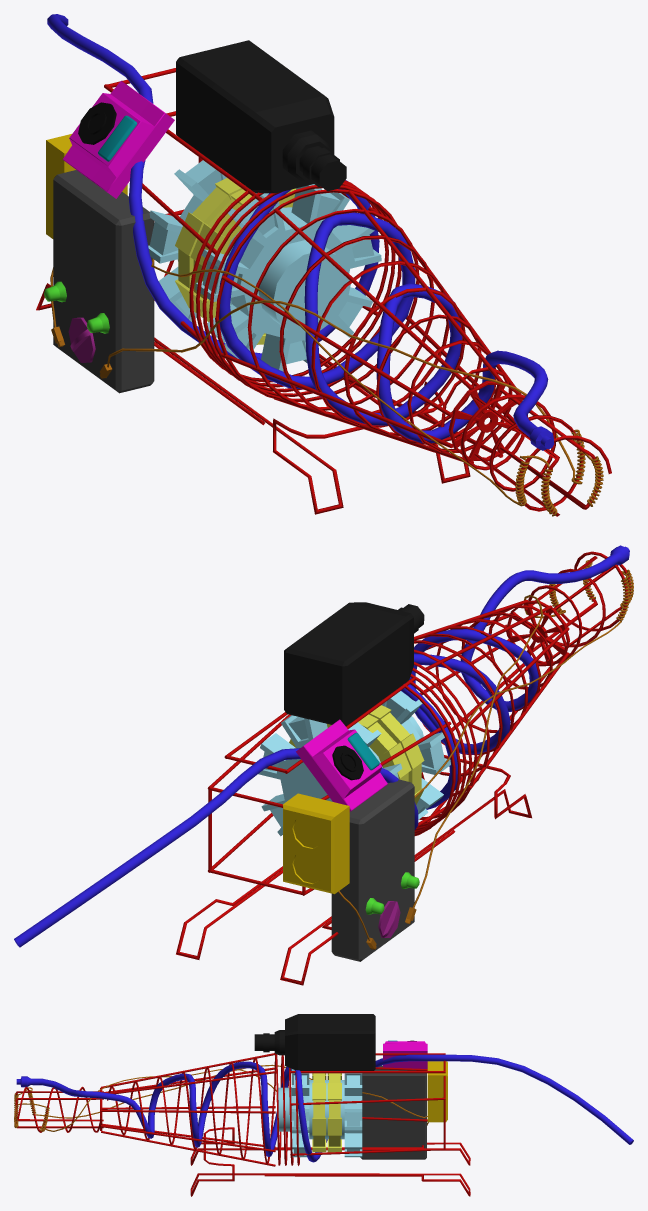
The picture shows the model from 3 angles, top to bottom: view 1: azimuth 30°, elevation 25°; view 2: azimuth 150°, elevation 25°; view 3: azimuth 270°, elevation 25°; orthographic projection. The views are drawn at different scales.
Parts seen in each view (by area): view 1: Stand, Light_Cable, Camera, BeamGenerator, Box001, Twisty_Knob_Body, Front_Wire_R_1, Coil003, Coil2, Socket, Twisty_Knob_Knob, Knob_Large (+1 smaller); view 2: Stand, Camera, Light_Cable, Box001, BeamGenerator, Socket, Twisty_Knob_Body, Front_Wire_R_1, Coil2, Coil003, Twisty_Knob_Knob, Knob_Large; view 3: Stand, Light_Cable, Camera, Box001, BeamGenerator, Socket, Front_Wire_R_1, Coil2, Coil003, Twisty_Knob_Body.
Boxes of the visible parts, bbox=[...] form: Stand: bbox=[36, 68, 611, 516]; Light_Cable: bbox=[47, 14, 554, 450]; Camera: bbox=[176, 40, 346, 193]; BeamGenerator: bbox=[148, 160, 381, 371]; Box001: bbox=[53, 170, 154, 393]; Twisty_Knob_Body: bbox=[62, 80, 174, 198]; Front_Wire_R_1: bbox=[50, 258, 603, 516]; Coil003: bbox=[175, 178, 242, 317]; Coil2: bbox=[190, 188, 296, 344]; Socket: bbox=[46, 134, 127, 238]; Twisty_Knob_Knob: bbox=[78, 102, 116, 144]; Knob_Large: bbox=[68, 317, 95, 362]; Stand: bbox=[176, 551, 631, 985]; Camera: bbox=[284, 602, 424, 726]; Light_Cable: bbox=[14, 545, 629, 947]; Box001: bbox=[331, 779, 414, 961]; BeamGenerator: bbox=[258, 691, 450, 836]; Socket: bbox=[283, 793, 349, 894]; Twisty_Knob_Body: bbox=[296, 719, 387, 811]; Front_Wire_R_1: bbox=[338, 560, 633, 949]; Coil2: bbox=[369, 705, 424, 804]; Coil003: bbox=[289, 714, 411, 781]; Twisty_Knob_Knob: bbox=[332, 745, 363, 780]; Knob_Large: bbox=[378, 901, 400, 937]; Stand: bbox=[15, 1053, 470, 1196]; Light_Cable: bbox=[16, 1054, 633, 1162]; Camera: bbox=[254, 1014, 375, 1070]; Box001: bbox=[360, 1065, 426, 1159]; BeamGenerator: bbox=[277, 1069, 362, 1157]; Socket: bbox=[427, 1061, 447, 1122]; Front_Wire_R_1: bbox=[14, 1064, 428, 1131]; Coil2: bbox=[312, 1073, 326, 1152]; Coil003: bbox=[327, 1073, 341, 1152]; Twisty_Knob_Body: bbox=[383, 1041, 427, 1068].
Bounding box in the file's own units: 61.27 × 77.61 × 279.
